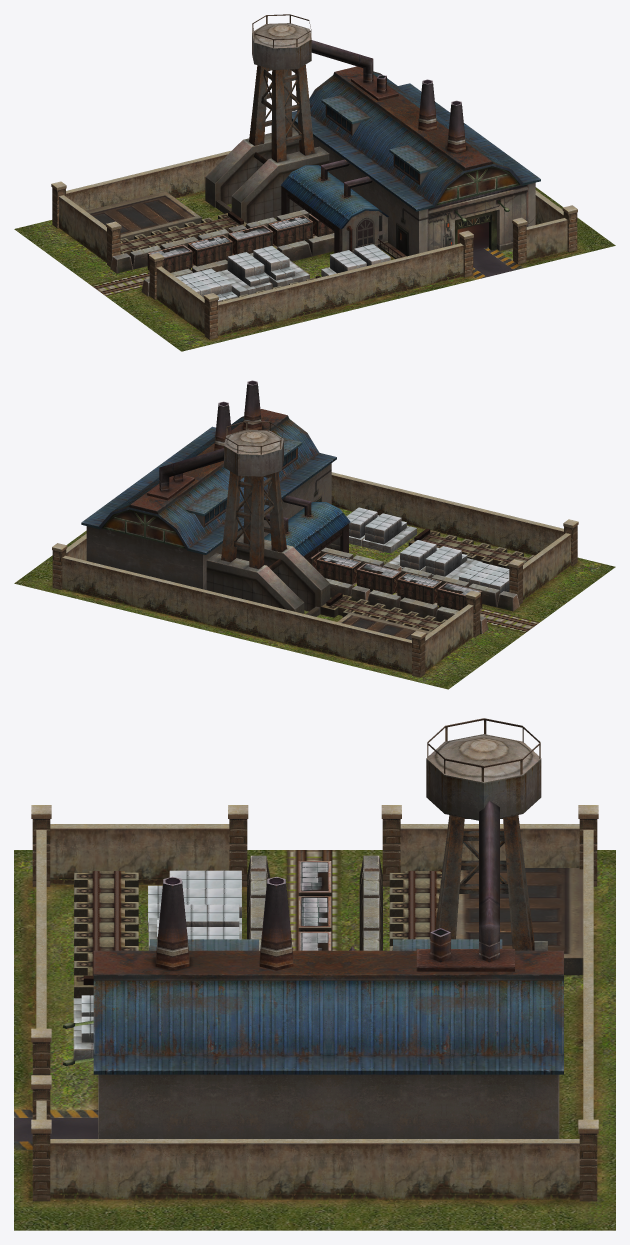
Rendered from Dhz_AluminumMinedm_02.fbx.
The picture shows the model from 3 angles, top to bottom: view 1: azimuth 30°, elevation 25°; view 2: azimuth 150°, elevation 25°; view 3: azimuth 270°, elevation 25°; orthographic projection. The views are drawn at different scales.
Visible parts, largest first — view 1: Dhz_AluminumMinedm_02; view 2: Dhz_AluminumMinedm_02; view 3: Dhz_AluminumMinedm_02.
Part boxes in pixels (x1,y1,x2,y2): Dhz_AluminumMinedm_02: [14, 14, 615, 351]; Dhz_AluminumMinedm_02: [14, 380, 615, 689]; Dhz_AluminumMinedm_02: [14, 718, 615, 1230].
Size of the model in its own units: 185 by 70.49 by 124.
